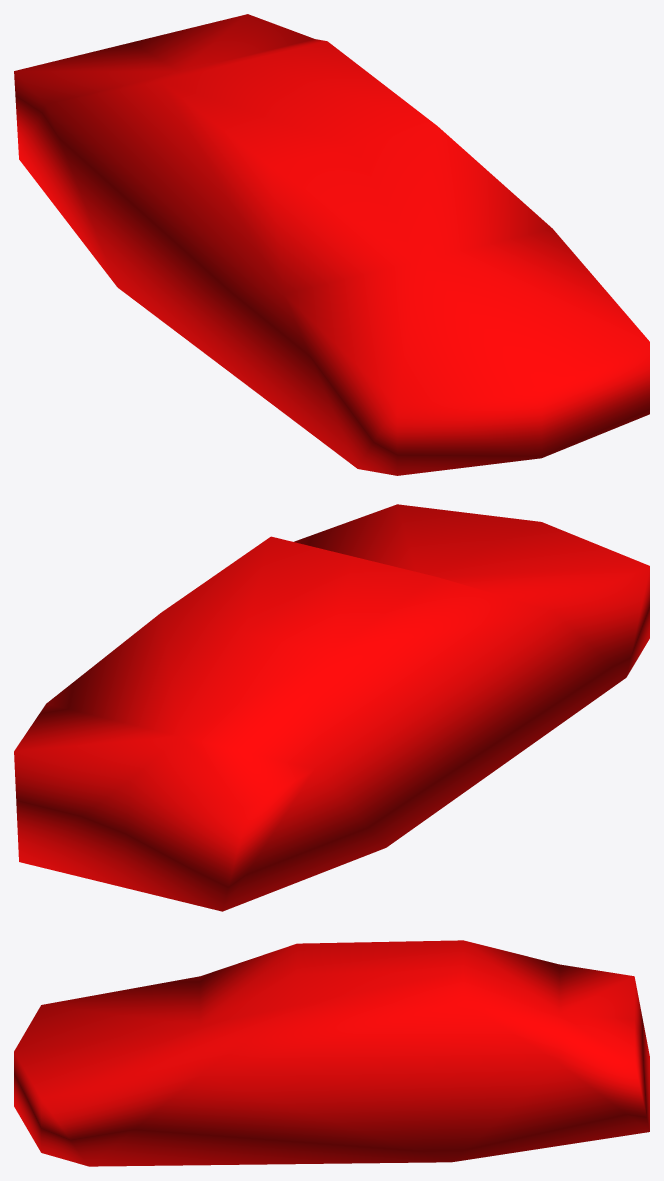
Rendered from car_07_collider.fbx.
3 renders of one model, top to bottom at view 1: azimuth 30°, elevation 25°; view 2: azimuth 150°, elevation 25°; view 3: azimuth 270°, elevation 25°, orthographic. The views are drawn at different scales.
Parts seen in each view (by area): view 1: Mesh; view 2: Mesh; view 3: Mesh.
Part boxes in pixels (x1,y1,x2,y2): Mesh: (14, 14, 649, 475); Mesh: (14, 504, 649, 911); Mesh: (14, 940, 649, 1166).
Size of the model in its own units: 187 by 128 by 506.
